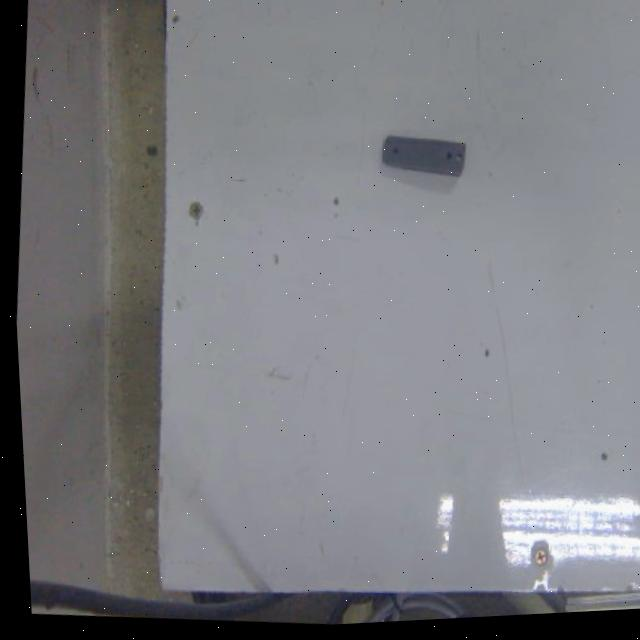grey: (372, 119, 471, 188)
head: (389, 141, 399, 156)
